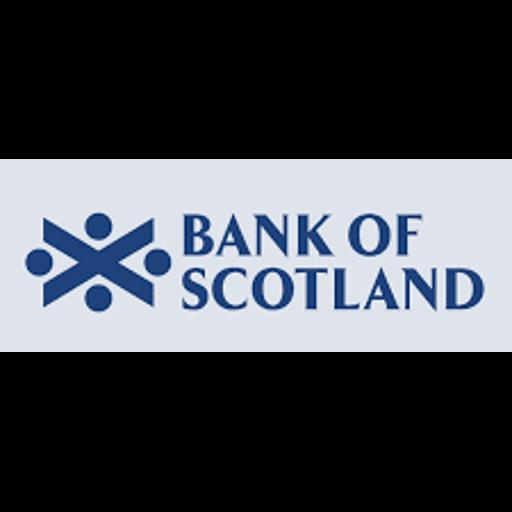Bank of Scotland: (0, 159, 512, 352)
